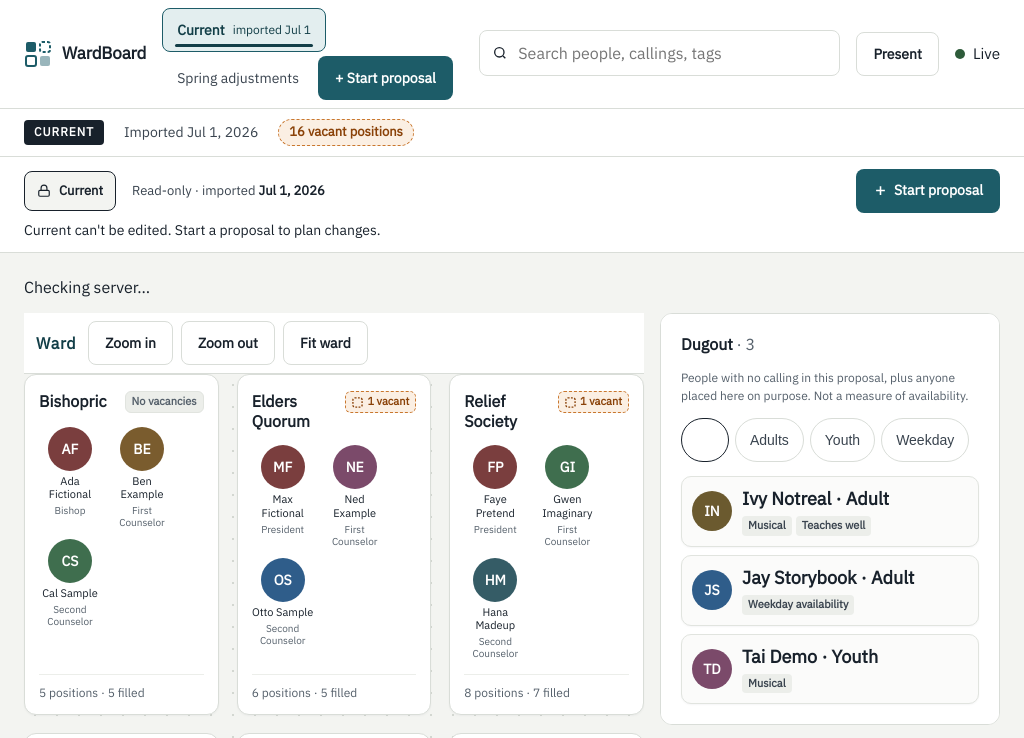
T-082 proposal summary in app › Summary button appears on proposals only
Expected: the button "Summary" is not shown
// Switch to Proposal tab
Click the tab "Spring adjustments" at (238, 78), box [162, 56, 314, 100]
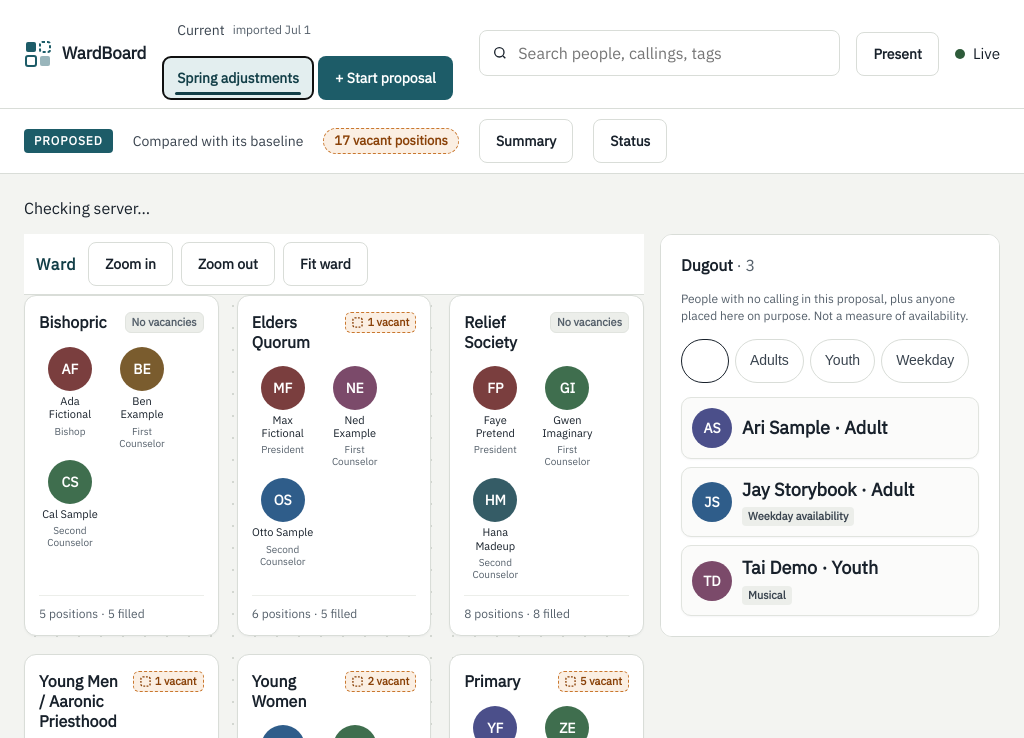
Now the button "Summary" is shown, box [479, 119, 573, 163]
